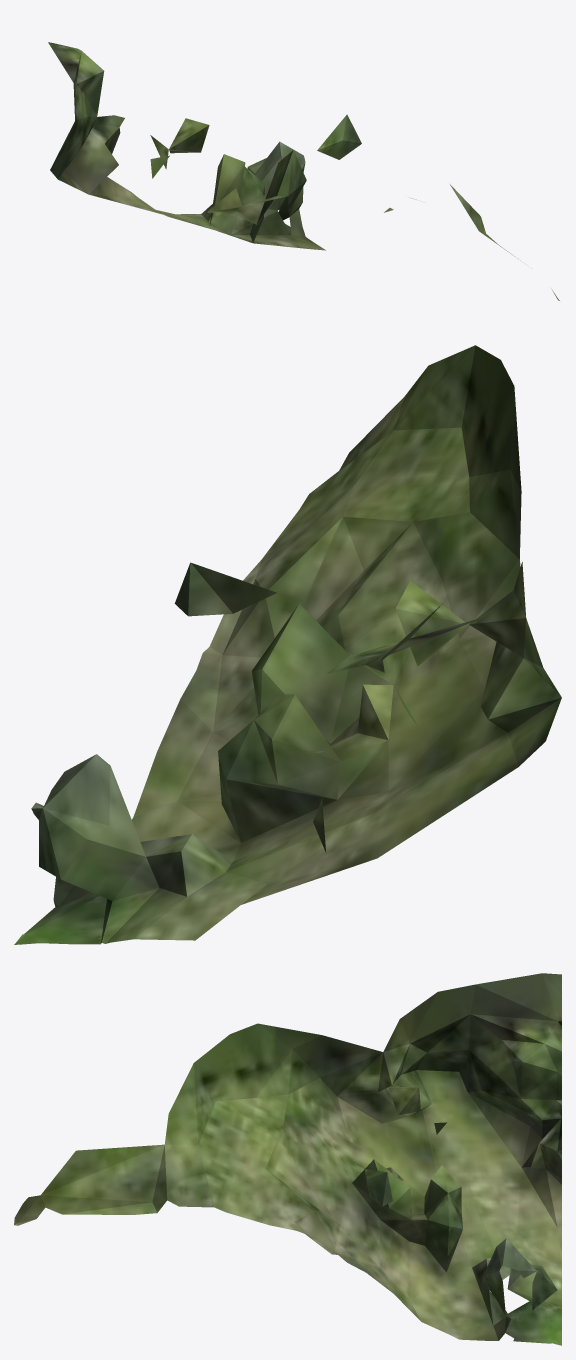
The picture shows the model from 3 angles, top to bottom: view 1: azimuth 30°, elevation 25°; view 2: azimuth 150°, elevation 25°; view 3: azimuth 270°, elevation 25°; orthographic projection. The views are drawn at different scales.
Size of the model in its own units: 56.02 by 51.89 by 102.
1 material, 1 textured.
